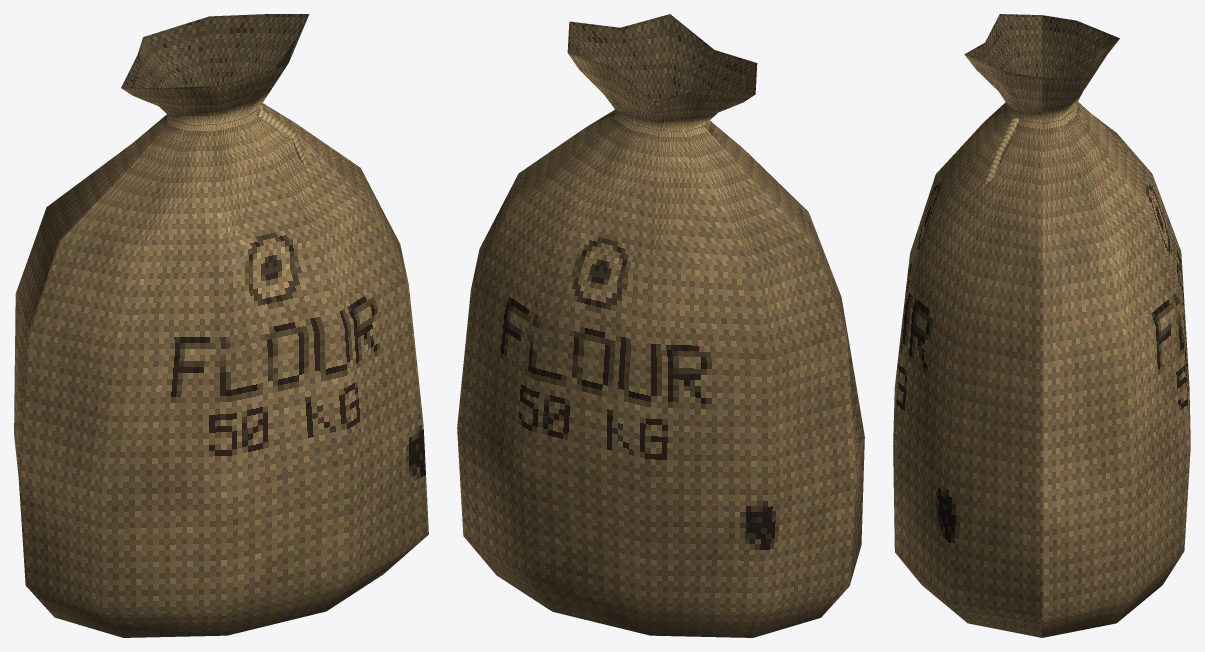
The model's file is sack_burlap.glb.
The picture shows the model from 3 angles, left to right: view 1: azimuth 30°, elevation 25°; view 2: azimuth 150°, elevation 25°; view 3: azimuth 270°, elevation 25°; orthographic projection. The views are drawn at different scales.
Visible parts, largest first — view 1: sack_burlap; view 2: sack_burlap; view 3: sack_burlap.
Part boxes in pixels (box(x1,y1,x2,y2)): sack_burlap: box(14, 14, 428, 637); sack_burlap: box(457, 14, 864, 637); sack_burlap: box(893, 14, 1190, 637).
Size of the model in its own units: 0.5299 by 0.6929 by 0.3536.
1 material, 1 textured.
